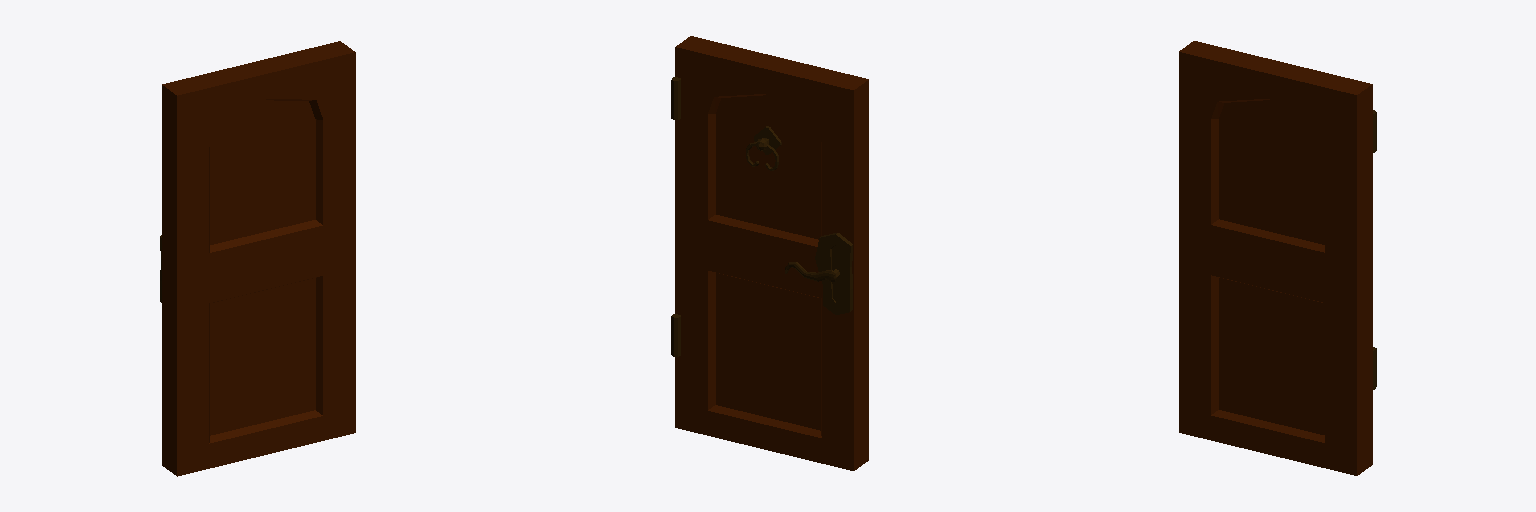
The model's file is door.obj.
The picture shows the model from 3 angles: view 1: azimuth 30°, elevation 25°; view 2: azimuth 150°, elevation 25°; view 3: azimuth 330°, elevation 25°; orthographic projection.
Visible parts, largest first — view 1: Door_Cylinder.058; view 2: Door_Cylinder.058; view 3: Door_Cylinder.058.
Part boxes in pixels (bbox=[...]): Door_Cylinder.058: bbox=[160, 41, 355, 476]; Door_Cylinder.058: bbox=[671, 36, 868, 470]; Door_Cylinder.058: bbox=[1179, 41, 1376, 475].
Bounding box in the file's own units: 1.03 × 2.09 × 0.2228.